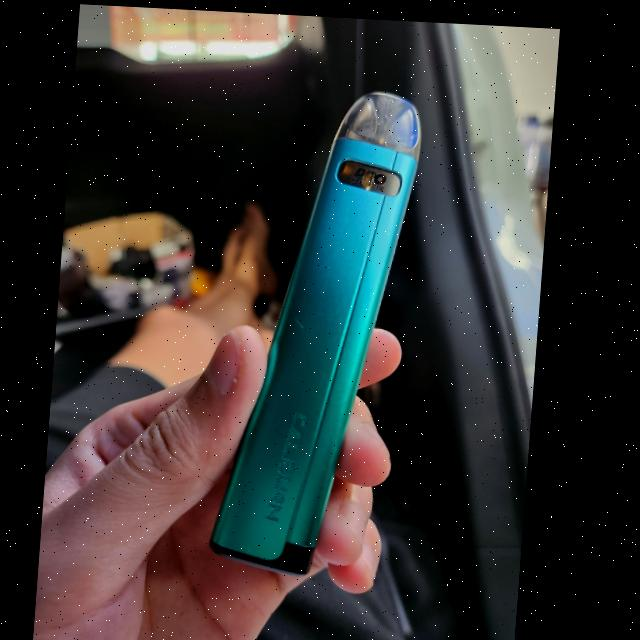vape: (213, 83, 422, 578)
